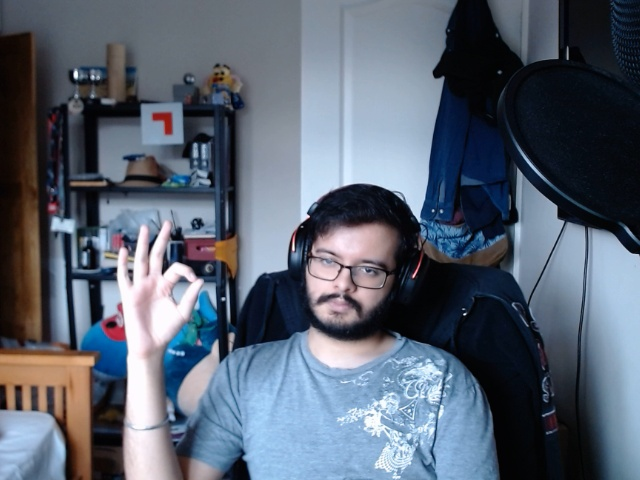Okay: (107, 213, 212, 364)
